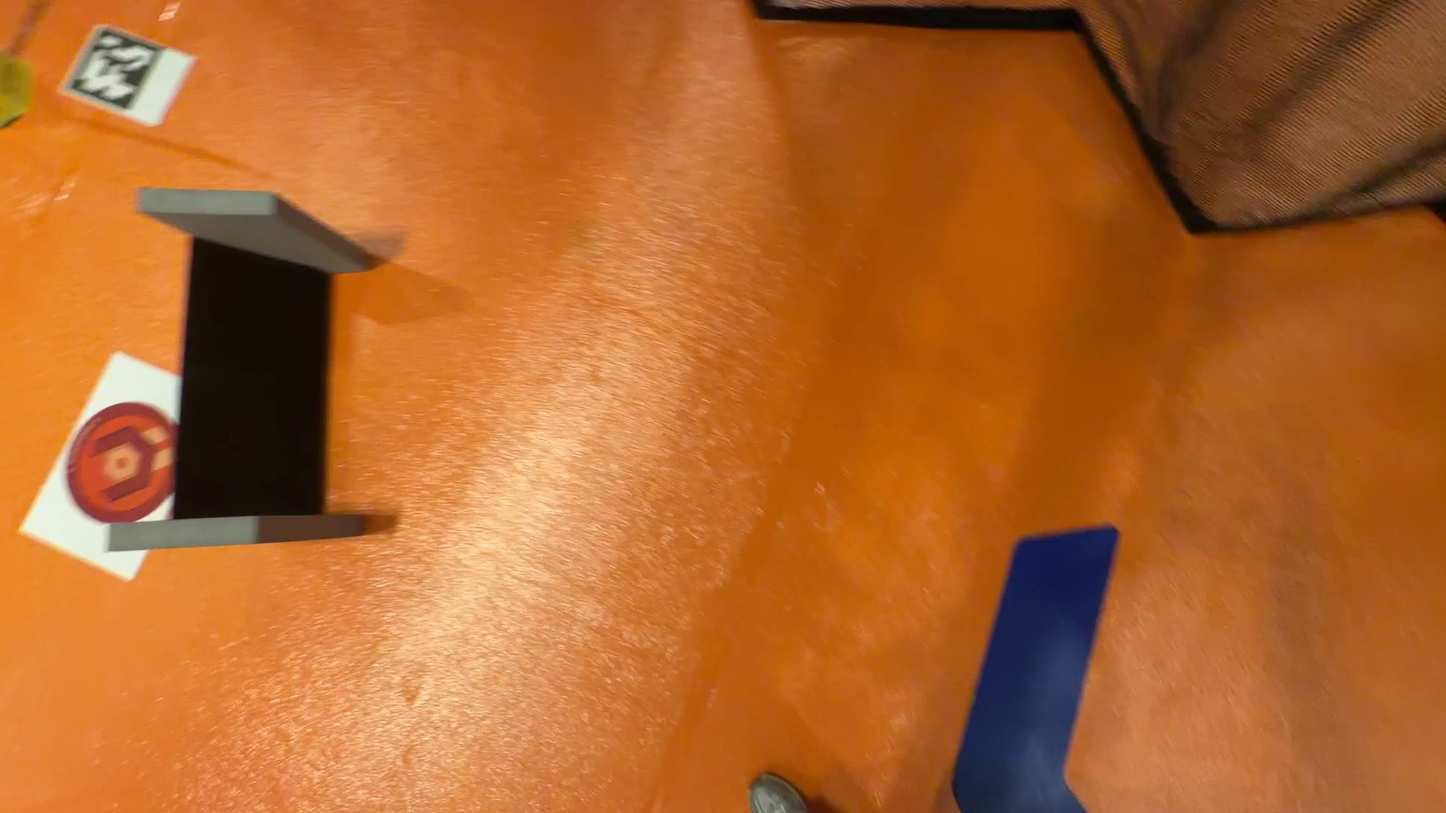landing_pad: (68, 400, 176, 518)
